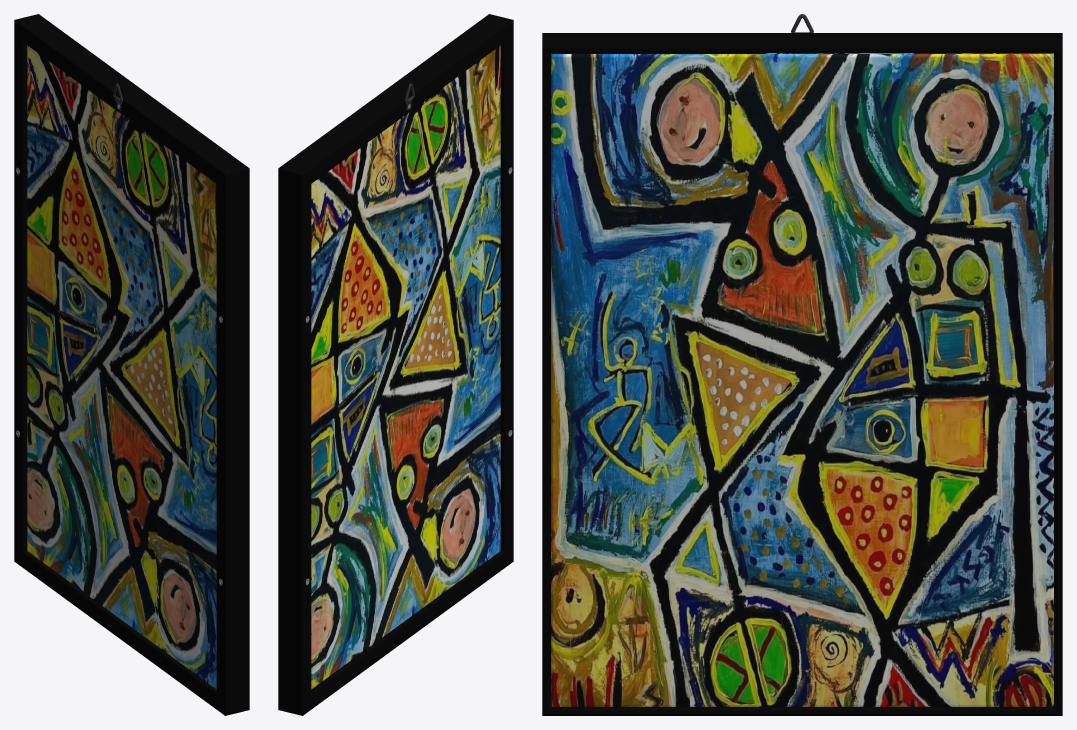
Rendered from tab2.glb.
The picture shows the model from 3 angles, left to right: view 1: azimuth 30°, elevation 25°; view 2: azimuth 150°, elevation 25°; view 3: azimuth 270°, elevation 25°; orthographic projection. The views are drawn at different scales.
Visible parts, largest first — view 1: Canvas.003, Frame.003; view 2: Canvas.003, Frame.003; view 3: Canvas.003, Frame.003.
Part boxes in pixels (<box>): Canvas.003: <box>27,45,216,689</box>; Frame.003: <box>14,14,249,715</box>; Canvas.003: <box>311,45,500,689</box>; Frame.003: <box>278,14,513,715</box>; Canvas.003: <box>551,53,1053,706</box>; Frame.003: <box>542,33,1062,715</box>.
Size of the model in its own units: 0.0457 by 0.8722 by 0.6.
4 materials, 1 textured.
